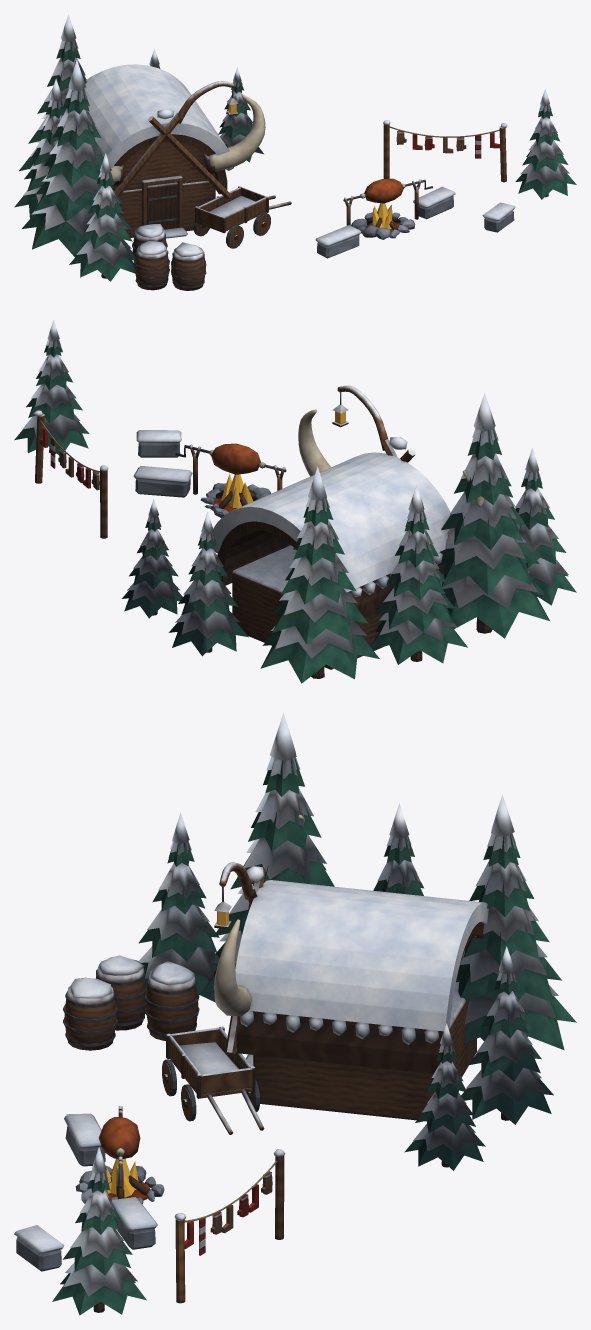
File: FrostCamp_Buildings.fbx
3 views of the same model, one above another, from view 1: azimuth 30°, elevation 25°; view 2: azimuth 150°, elevation 25°; view 3: azimuth 270°, elevation 25° (orthographic). The views are drawn at different scales.
Visible parts, largest first — view 1: S02_HutRoof, S10_Pine_0, S01_Hut, S10_Pine_6, S04_Cart, S10_Pine_5, S10_Pine_1, S09_Clothesline, S03_HutHorns, S10_Pine_2, S05_Barrel_0, S05_Barrel_1 (+7 smaller); view 2: S02_HutRoof, S10_Pine_0, S10_Pine_2, S10_Pine_1, S10_Pine_3, S01_Hut, S10_Pine_5, S10_Pine_6, S10_Pine_4, S09_Clothesline, S07_Spit, S08_Bench_1 (+3 smaller); view 3: S02_HutRoof, S10_Pine_2, S01_Hut, S10_Pine_0, S10_Pine_3, S10_Pine_5, S10_Pine_6, S04_Cart, S10_Pine_4, S05_Barrel_2, S09_Clothesline, S05_Barrel_1 (+8 smaller).
Part boxes in pixels (x1,y1,x2,y2): S02_HutRoof: (65, 64, 238, 199); S10_Pine_0: (22, 60, 132, 256); S01_Hut: (111, 141, 215, 238); S10_Pine_6: (69, 153, 135, 281); S04_Cart: (193, 186, 291, 248); S10_Pine_5: (515, 89, 576, 199); S10_Pine_1: (14, 78, 64, 218); S09_Clothesline: (383, 120, 507, 182); S03_HutHorns: (110, 94, 265, 185); S10_Pine_2: (19, 14, 86, 171); S05_Barrel_0: (134, 241, 169, 290); S05_Barrel_1: (171, 242, 206, 290); S02_HutRoof: (213, 385, 450, 621); S10_Pine_0: (437, 393, 549, 638); S10_Pine_2: (260, 466, 379, 683); S10_Pine_1: (370, 485, 467, 664); S10_Pine_3: (168, 511, 248, 656); S01_Hut: (232, 545, 384, 669); S10_Pine_5: (14, 320, 89, 455); S10_Pine_6: (515, 448, 576, 605); S10_Pine_4: (122, 499, 182, 618); S09_Clothesline: (33, 410, 108, 538); S07_Spit: (175, 443, 286, 494); S08_Bench_1: (133, 466, 192, 497); S02_HutRoof: (214, 862, 488, 1073); S10_Pine_2: (456, 794, 576, 1050); S01_Hut: (246, 982, 476, 1121); S10_Pine_0: (202, 713, 334, 993); S10_Pine_3: (461, 946, 553, 1124); S10_Pine_5: (52, 1147, 146, 1315); S10_Pine_6: (138, 813, 219, 1002); S04_Cart: (162, 1026, 264, 1134); S10_Pine_4: (404, 1023, 485, 1170); S05_Barrel_2: (144, 961, 199, 1040); S09_Clothesline: (174, 1149, 285, 1303); S05_Barrel_1: (63, 977, 117, 1050).
Bounding box in the file's own units: 19.87 × 7.61 × 13.12.
1 material, 1 textured.
